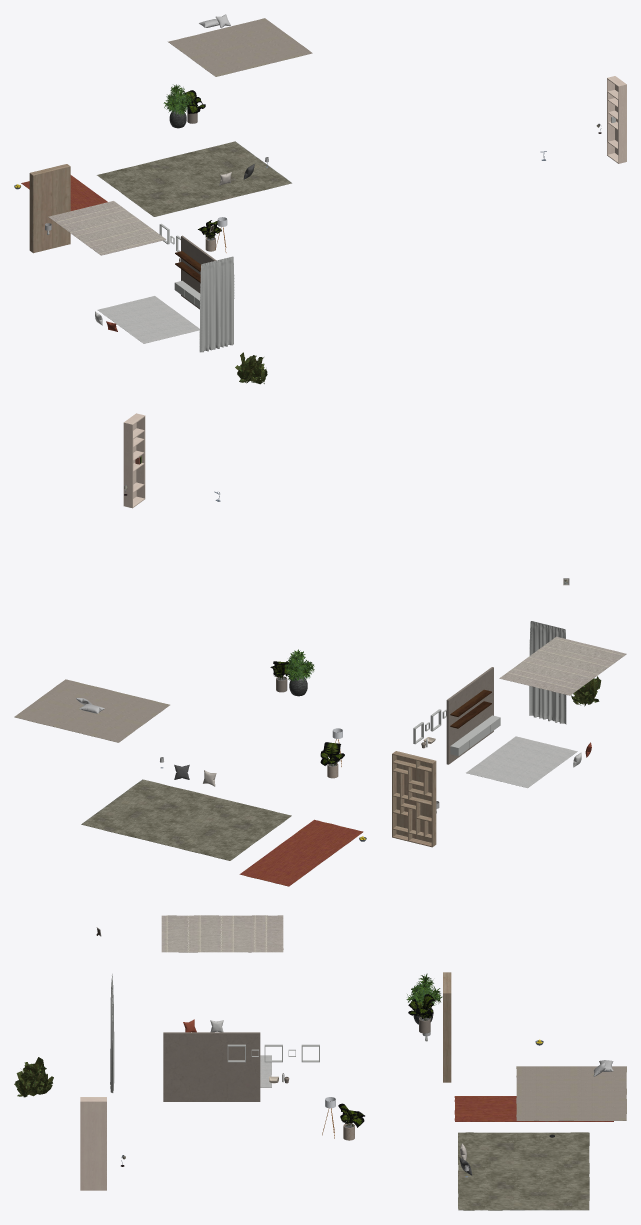
Rendered from LIVING_OBSERVATORY_LAYER_04_DECOR.glb.
The picture shows the model from 3 angles, top to bottom: view 1: azimuth 30°, elevation 25°; view 2: azimuth 150°, elevation 25°; view 3: azimuth 270°, elevation 25°; orthographic projection. The views are drawn at different scales.
Visible parts, largest first — view 1: SM_Rug01, SM_Rug01.002, SM_Rug01.001, SM_Bookshelf1, SM_Curtain01, SM_Rug01.003, SM_Bookshelf2, SM_FeatureWall2, SM_PlantPot01, SM_Rug01.004, SM_Bush; view 2: SM_Rug01, SM_Rug01.002, SM_Rug01.001, SM_Bookshelf1, SM_Rug01.004, SM_FeatureWall2, SM_Rug01.003, SM_Bookshelf2, SM_Curtain01, SM_PlantPot01; view 3: SM_Rug01, SM_FeatureWall2, SM_Rug01.002, SM_Rug01.001, SM_Bookshelf2, SM_Rug01.004, SM_Bush, SM_Bookshelf1, SM_PlantPot01, SM_PlantPot02, SM_PlantPot02.001, SM_WallDecor1 (+1 smaller).
Part boxes in pixels (<box>): SM_Rug01: <box>97,141,291,216</box>; SM_Rug01.002: <box>168,18,312,76</box>; SM_Rug01.001: <box>48,201,166,255</box>; SM_Bookshelf1: <box>29,164,70,253</box>; SM_Curtain01: <box>199,256,234,352</box>; SM_Rug01.003: <box>97,296,199,343</box>; SM_Bookshelf2: <box>607,76,626,163</box>; SM_FeatureWall2: <box>174,235,216,309</box>; SM_PlantPot01: <box>163,84,192,128</box>; SM_Rug01.004: <box>21,175,107,210</box>; SM_Bush: <box>235,352,267,384</box>; SM_Rug01: <box>81,779,291,860</box>; SM_Rug01.002: <box>14,679,169,742</box>; SM_Rug01.001: <box>499,636,626,695</box>; SM_Bookshelf1: <box>392,751,436,847</box>; SM_Rug01.004: <box>239,819,363,886</box>; SM_FeatureWall2: <box>446,667,500,764</box>; SM_Rug01.003: <box>466,736,577,787</box>; SM_Bookshelf2: <box>123,413,145,508</box>; SM_Curtain01: <box>529,621,566,724</box>; SM_PlantPot01: <box>284,649,314,696</box>; SM_Rug01: <box>458,1132,589,1210</box>; SM_FeatureWall2: <box>163,1032,260,1101</box>; SM_Rug01.002: <box>516,1066,626,1121</box>; SM_Rug01.001: <box>161,915,283,952</box>; SM_Bookshelf2: <box>80,1097,106,1190</box>; SM_Rug01.004: <box>454,1096,613,1121</box>; SM_Bush: <box>14,1057,53,1097</box>; SM_Bookshelf1: <box>443,972,451,1082</box>; SM_PlantPot01: <box>406,973,442,1024</box>; SM_PlantPot02: <box>408,994,435,1033</box>; SM_PlantPot02.001: <box>338,1103,364,1140</box>; SM_WallDecor1: <box>227,1044,319,1062</box>.
Bounding box in the file's own units: 1983 × 717 × 1866.
39 materials, 34 textured.
